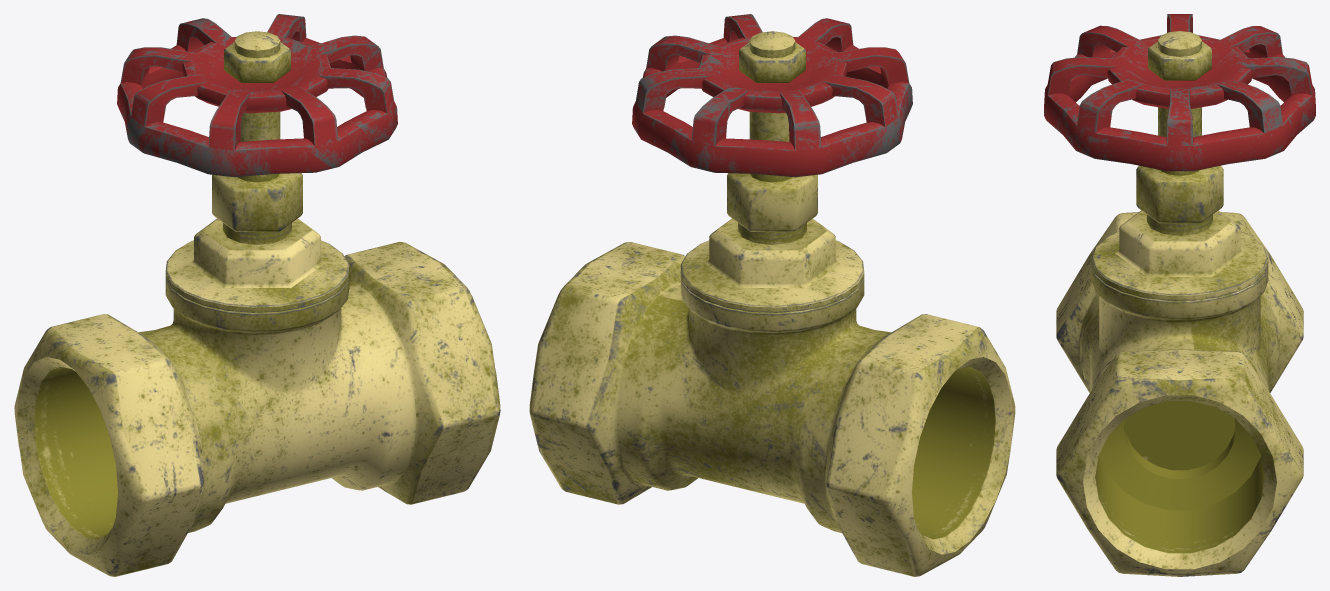
Rendered from Bronze valve.fbx.
The picture shows the model from 3 angles, left to right: view 1: azimuth 30°, elevation 25°; view 2: azimuth 150°, elevation 25°; view 3: azimuth 270°, elevation 25°; orthographic projection. The views are drawn at different scales.
Visible parts, largest first — view 1: Bronze_valve; view 2: Bronze_valve; view 3: Bronze_valve.
Boxes of the visible parts, left/top/right/bottom form: Bronze_valve: left=14, top=14, right=500, bottom=576; Bronze_valve: left=529, top=14, right=1015, bottom=576; Bronze_valve: left=1044, top=14, right=1315, bottom=576.
Bounding box in the file's own units: 3.73 × 4.45 × 2.41.
